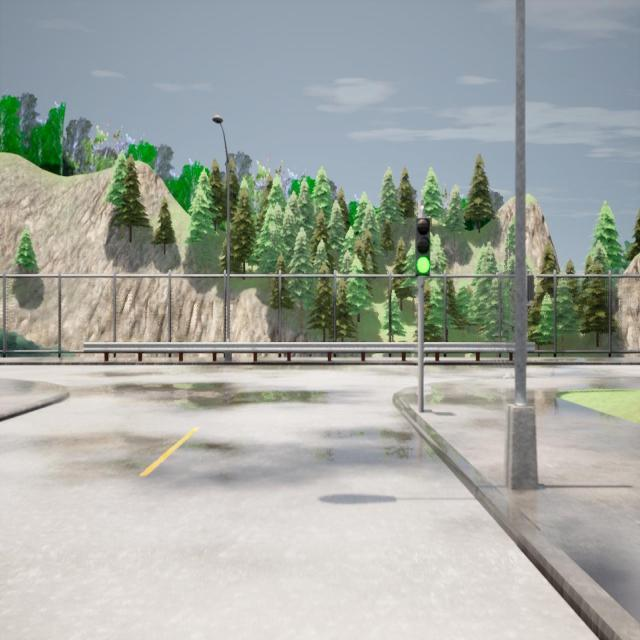traffic_light: (416, 218, 431, 276), (528, 274, 536, 300)
